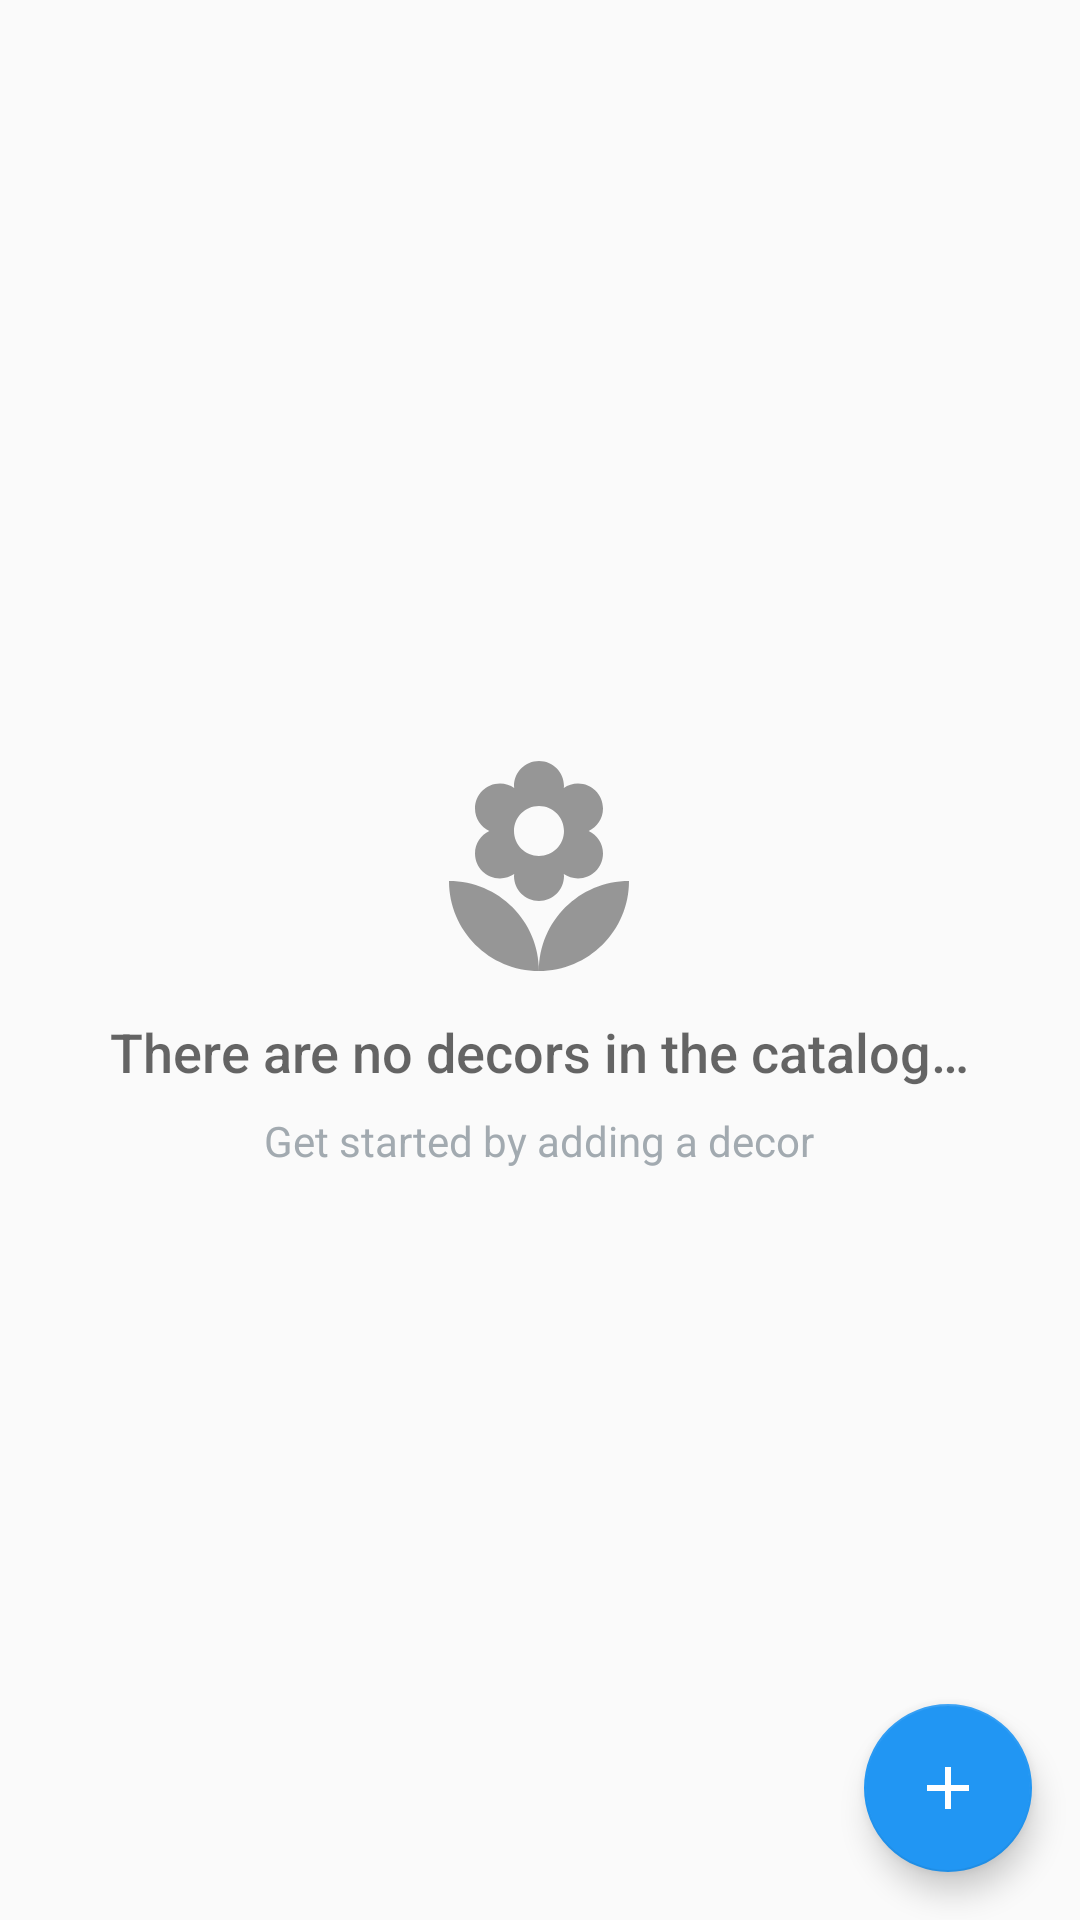

Locate icon controls on the screen. Image size 1080 × 1920, boxes as (x1, y1, x2, y2).
add: (864, 1704, 1032, 1872)
local florist: (449, 761, 629, 971)
